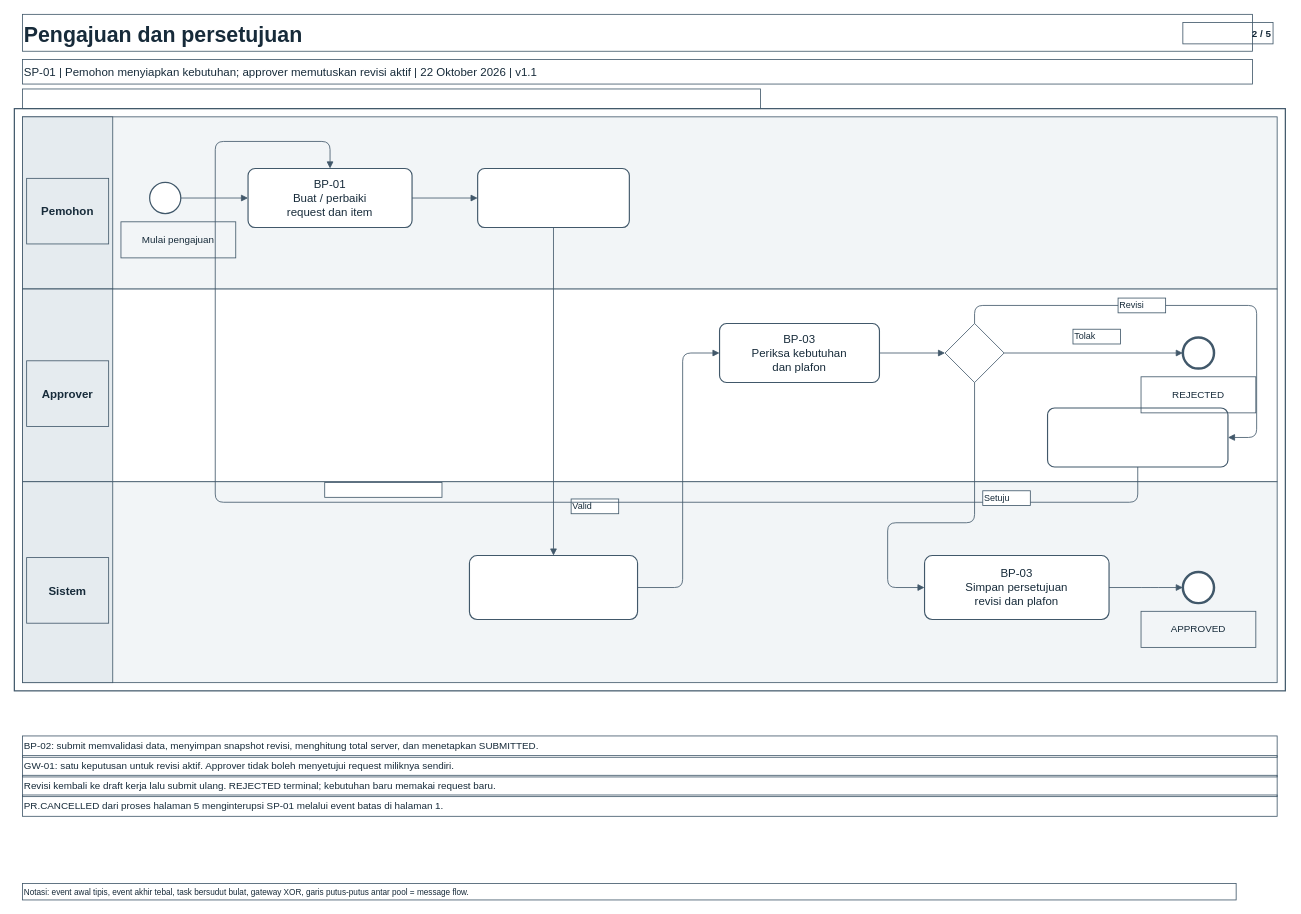
Some shapes in this 1301 by 914 pixel diagram are drawn without their labels. Here are the shapes that lost their labels. From the top down, the centre of each, then its label:
At (391,98): "Pool: Organisasi".
At (553,198): "BP-02 Ajukan request".
At (974,353): "GW-01 Keputusan?".
At (1137,437): "BP-03 Minta revisi (alasan wajib)".
At (383,489): "CHANGES_REQUESTED".
At (553,587): "BP-02 Validasi, snapshot, SUBMITTED".
